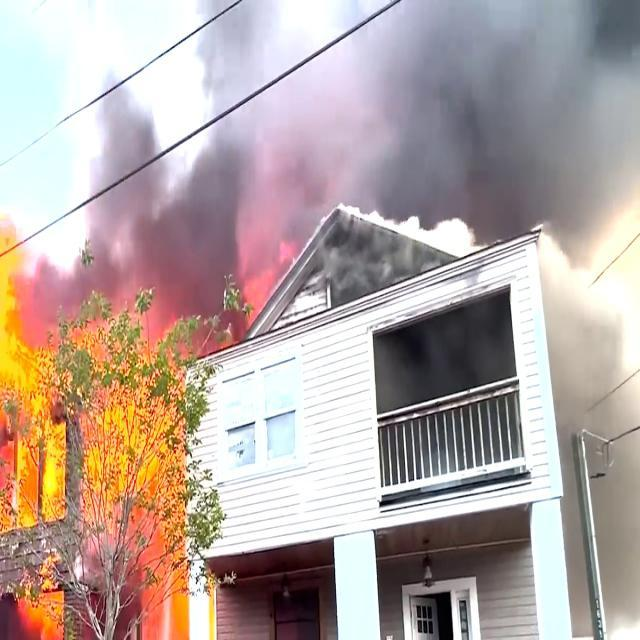Fire: (0, 281, 192, 640)
Smoke: (318, 0, 640, 194), (550, 272, 640, 625), (151, 98, 284, 296)
